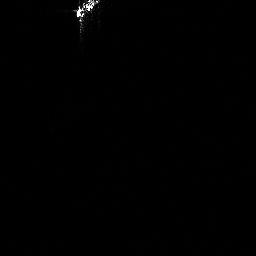ship: (71, 1, 103, 36)
